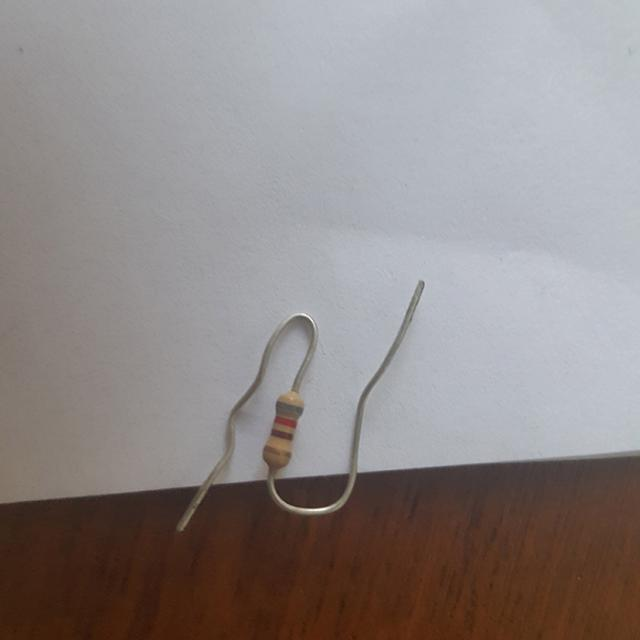blue: (277, 400, 303, 412)
brown: (271, 430, 292, 440)
gold: (264, 445, 292, 456)
red: (275, 416, 296, 426)
resistor: (262, 383, 305, 475)
